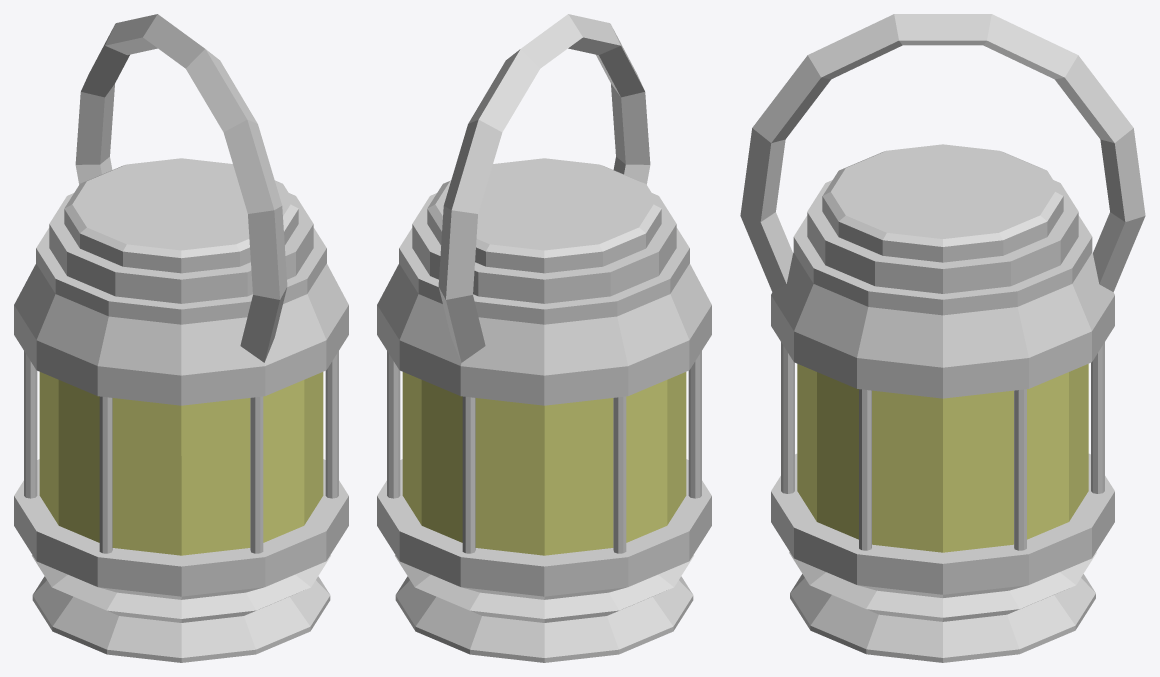
Rendered from 手提灯.fbx.
3 views of the same model, side by side, from view 1: azimuth 30°, elevation 25°; view 2: azimuth 150°, elevation 25°; view 3: azimuth 270°, elevation 25° (orthographic). The views are drawn at different scales.
Parts seen in each view (by area): view 1: 柱体.001, 柱体.002; view 2: 柱体.001, 柱体.002; view 3: 柱体.001, 柱体.002.
Part boxes in pixels (x1,y1,x2,y2): 柱体.001: [14, 14, 348, 662]; 柱体.002: [39, 372, 323, 555]; 柱体.001: [377, 14, 711, 662]; 柱体.002: [402, 372, 686, 555]; 柱体.001: [740, 14, 1145, 662]; 柱体.002: [797, 364, 1088, 552].
Size of the model in its own units: 33.72 by 63.18 by 39.71.
